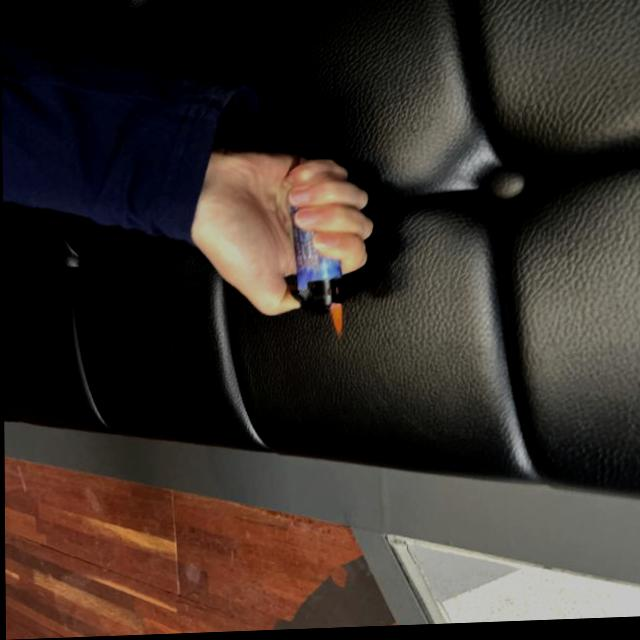helmet: (326, 304, 343, 340)
